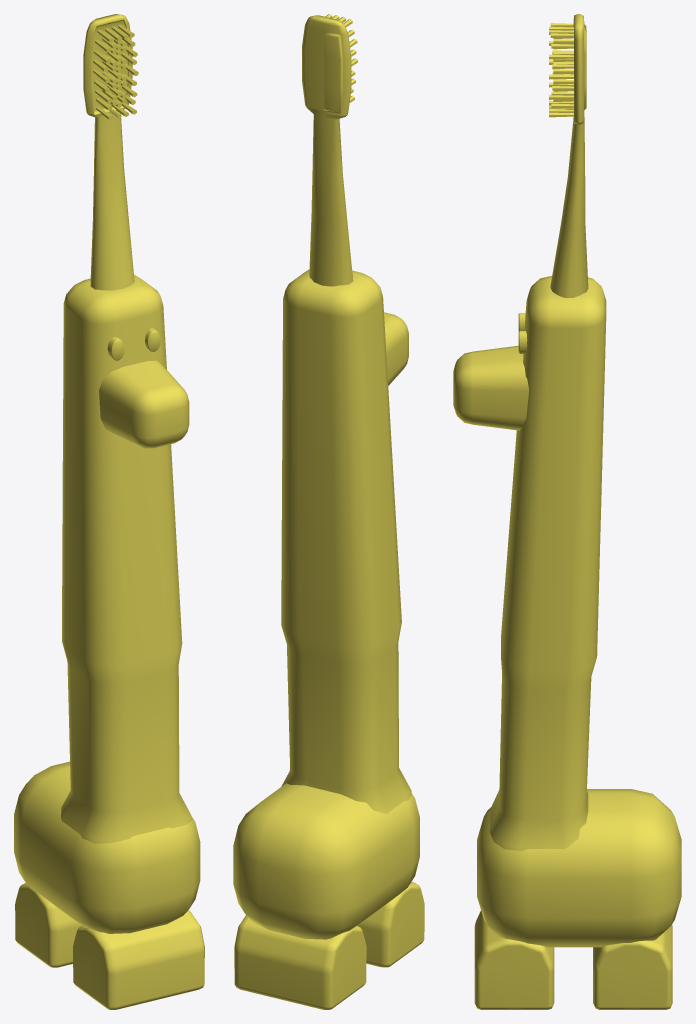
Rendered from kid_tooth_brush.fbx.
3 renders of one model, left to right at view 1: azimuth 30°, elevation 25°; view 2: azimuth 150°, elevation 25°; view 3: azimuth 270°, elevation 25°, orthographic. The views are drawn at different scales.
Parts seen in each view (by area): view 1: pCube7; view 2: pCube7; view 3: pCube7.
Boxes of the visible parts, left/top/right/bottom form: pCube7: left=14, top=14, right=204, bottom=1009; pCube7: left=233, top=14, right=424, bottom=1009; pCube7: left=453, top=14, right=681, bottom=1009.
Size of the model in its own units: 0.0465 by 0.343 by 0.0733.
